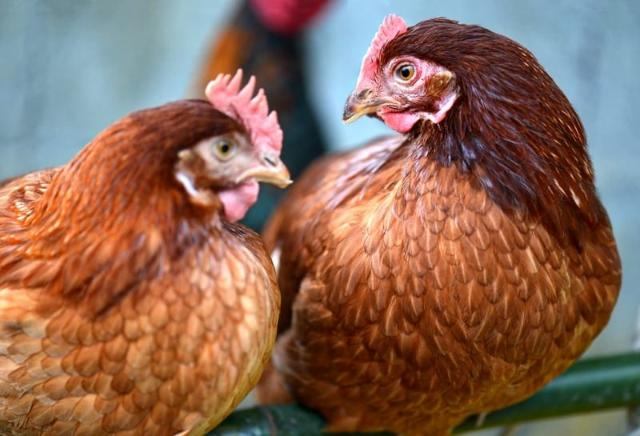Chicken: (268, 13, 621, 436), (1, 68, 294, 436)
